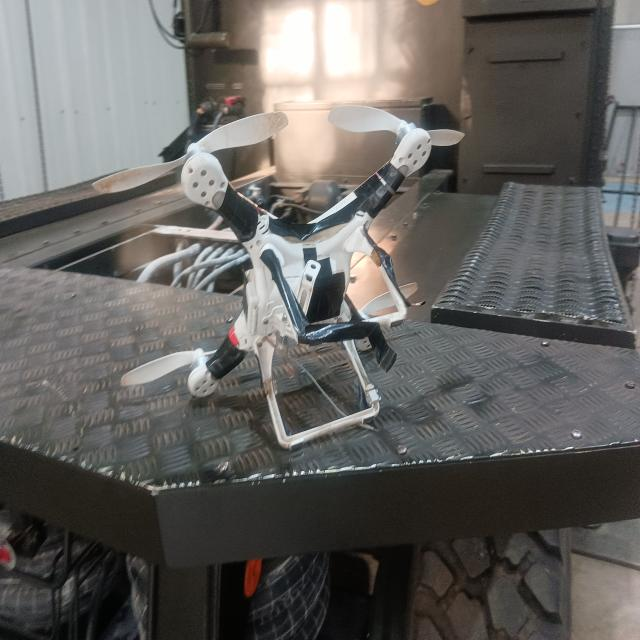drone: (112, 98, 474, 459)
